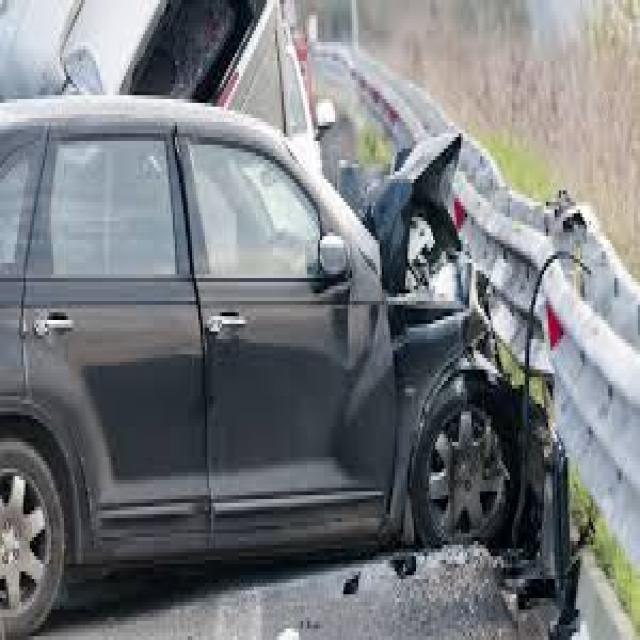accident: (12, 92, 588, 558)
